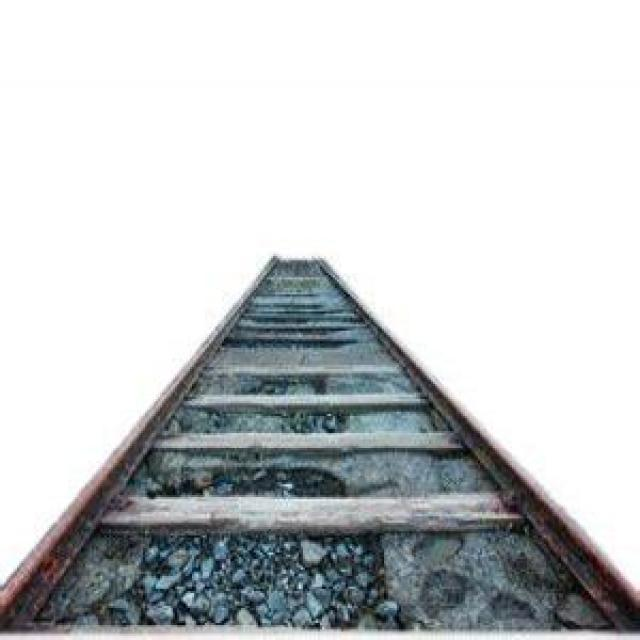rail: (0, 253, 640, 638)
